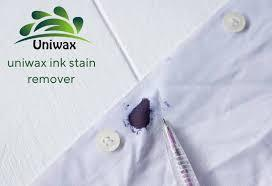ink: (128, 99, 152, 132)
